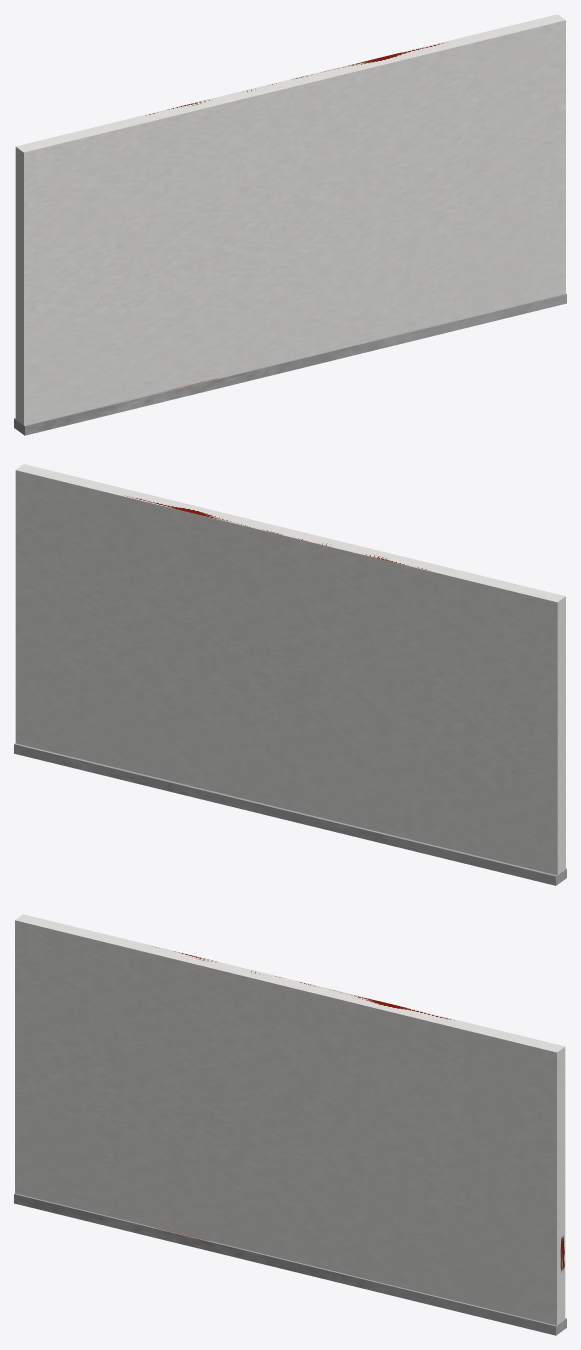
The model's file is paredCUARTOinicialLIMPIO.fbx.
3 renders of one model, top to bottom at view 1: azimuth 30°, elevation 25°; view 2: azimuth 150°, elevation 25°; view 3: azimuth 330°, elevation 25°, orthographic.
Visible parts, largest first — view 1: Cube.007; view 2: Cube.007; view 3: Cube.007.
Boxes of the visible parts, x1,y1,x2,y2 form: Cube.007: [14, 14, 566, 435]; Cube.007: [14, 464, 566, 885]; Cube.007: [14, 914, 566, 1335].
Bounding box in the file's own units: 703 × 350 × 24.4.
Materials: 3 (3 with a texture image).
